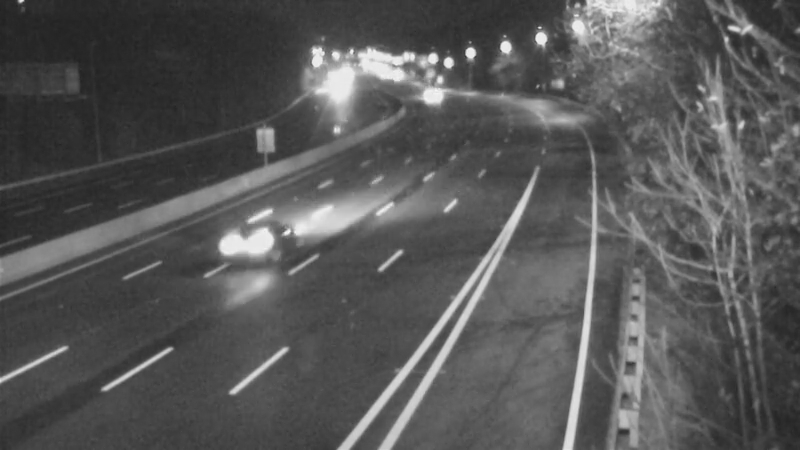vehicle: (209, 207, 289, 287), (404, 67, 454, 117)
